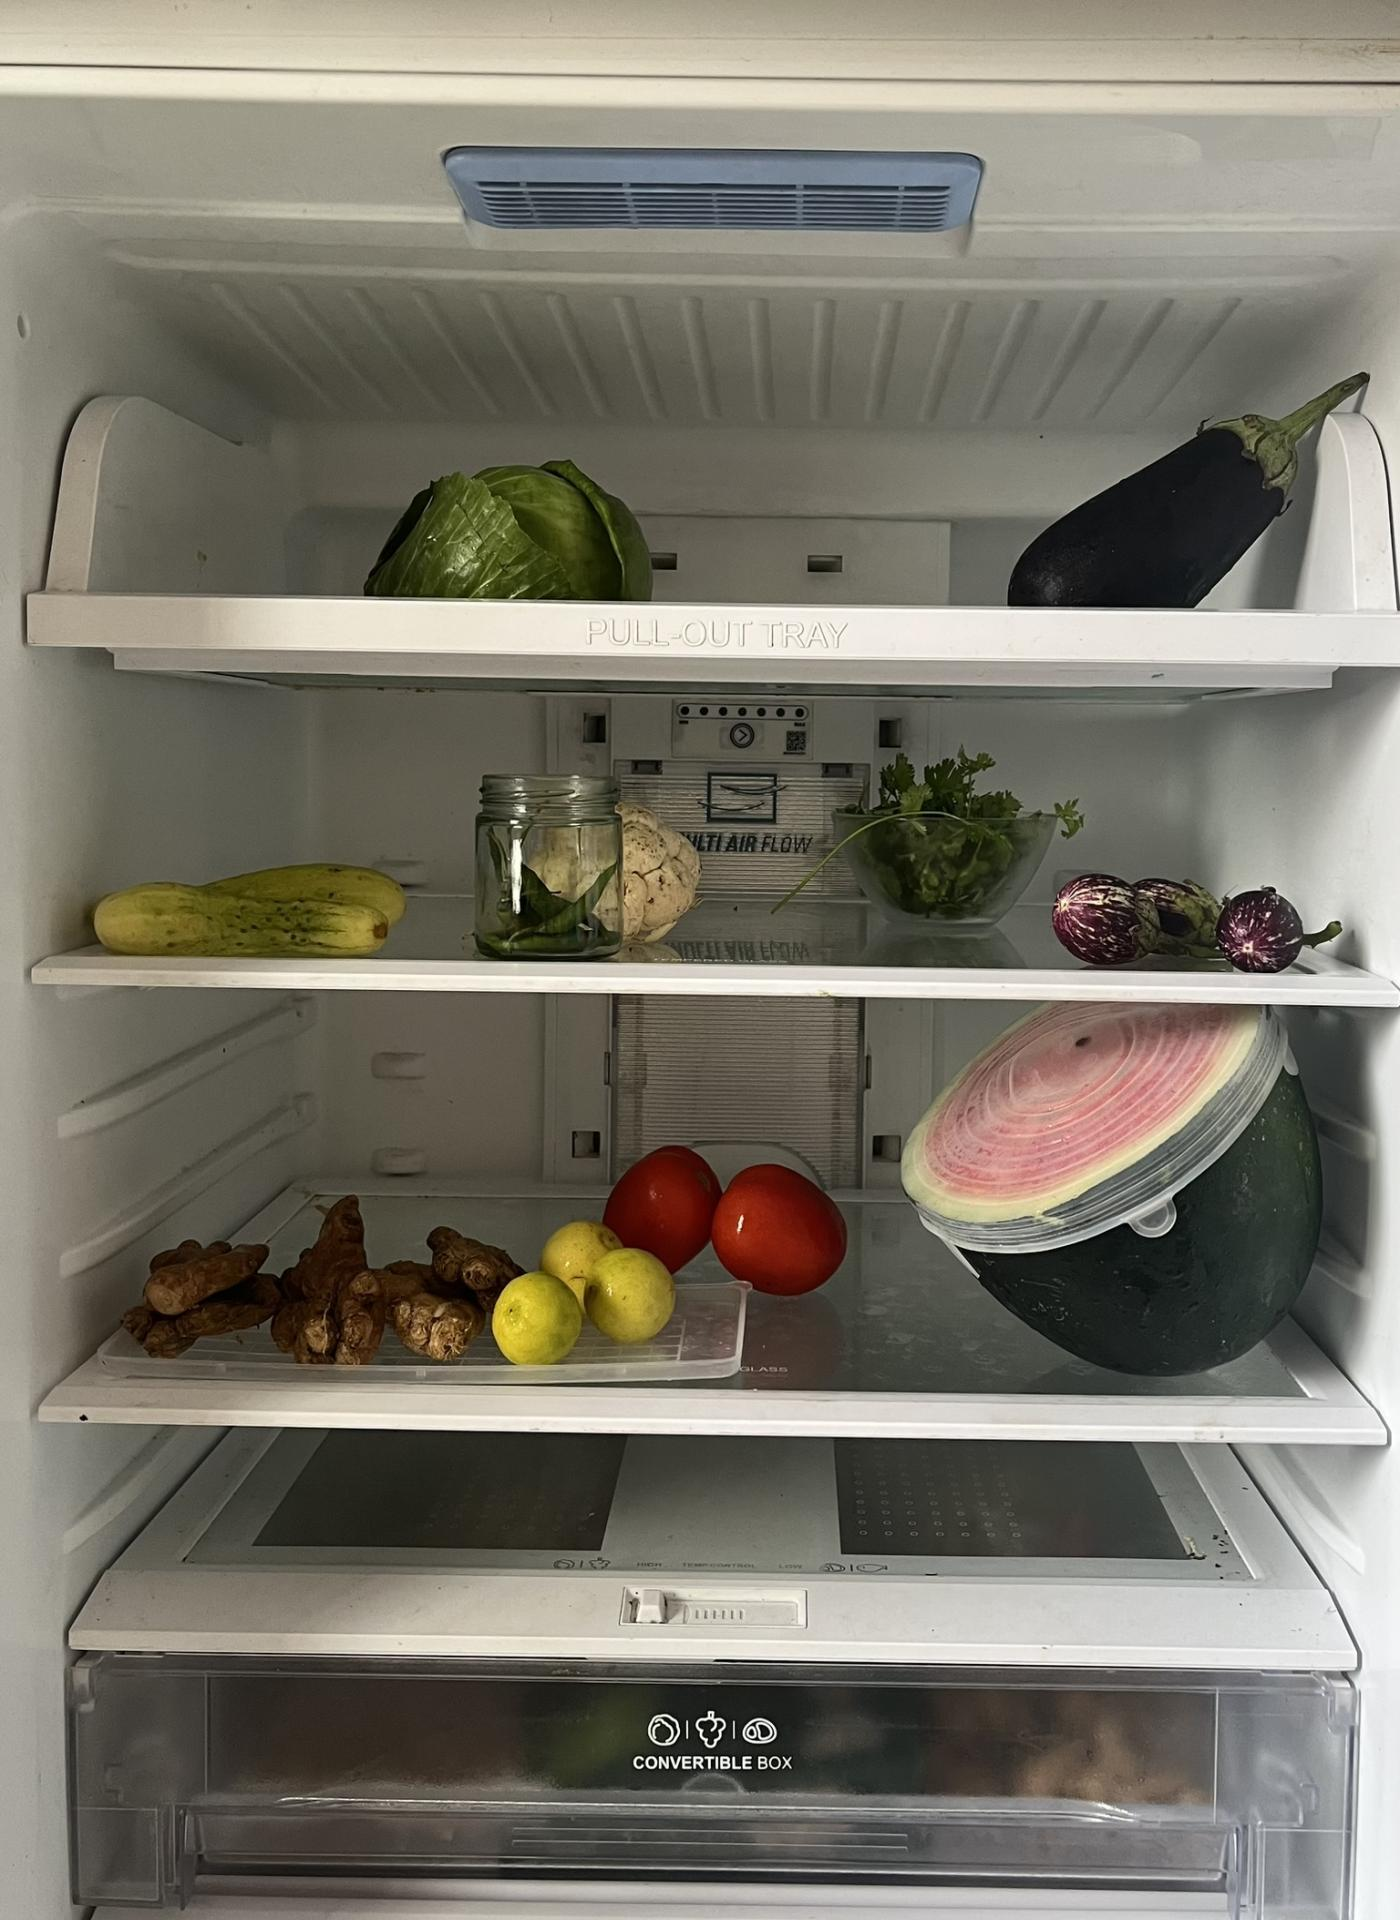brinjal: (1000, 389, 1346, 614), (1057, 868, 1305, 969)
cabbage: (370, 462, 656, 601)
cauliflower: (556, 814, 704, 936)
chillies: (470, 795, 623, 947)
coriander: (859, 753, 1030, 923)
cucumber: (85, 865, 413, 956)
ginger: (139, 1194, 501, 1357)
lemon: (495, 1219, 668, 1362)
tomato: (902, 993, 1319, 1374), (614, 1140, 854, 1292)
